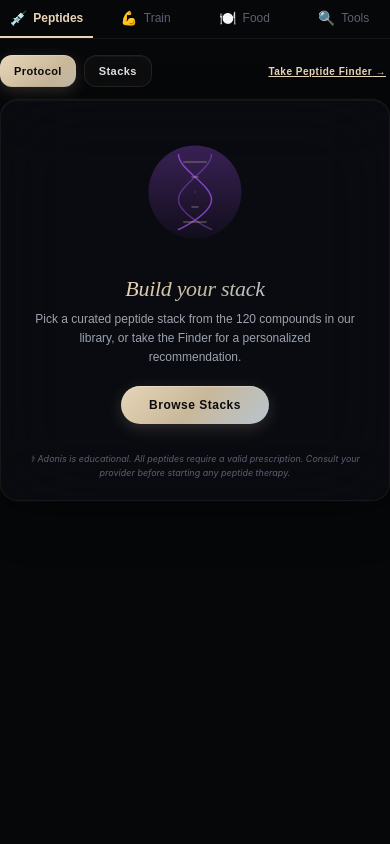
it: BodyView › switching to Tools renders WeightLogger + PhotoJournal content
The width and height of the screenshot is (390, 844).
Click the button "🔍 Tools" at {"x": 344, "y": 19}, box [297,0,389,38]
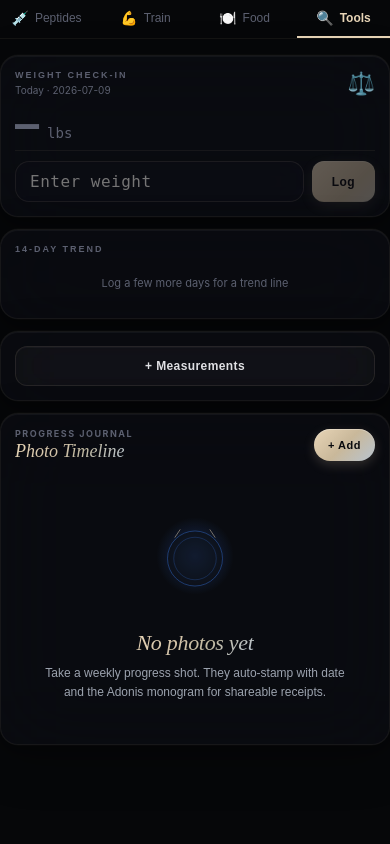
Now the text "Weight Check-in" is shown, box [15,70,128,80]
Now the text "Photo Timeline" is shown, box [15,441,124,461]
